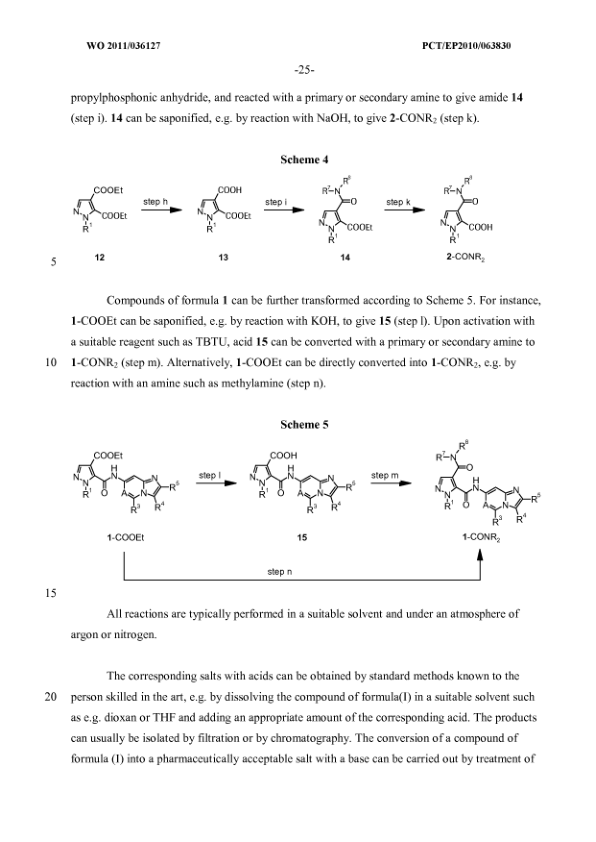compound-structure: (426, 436, 542, 542), (64, 443, 183, 544), (242, 443, 357, 515), (433, 166, 496, 266), (317, 168, 376, 247), (66, 173, 129, 239), (186, 175, 254, 236)
reaction: (32, 399, 571, 601), (29, 152, 541, 283)
reaction-arrow: (114, 547, 498, 589), (138, 190, 180, 220), (382, 196, 428, 223), (365, 466, 411, 491), (262, 194, 304, 220), (193, 470, 235, 491)
